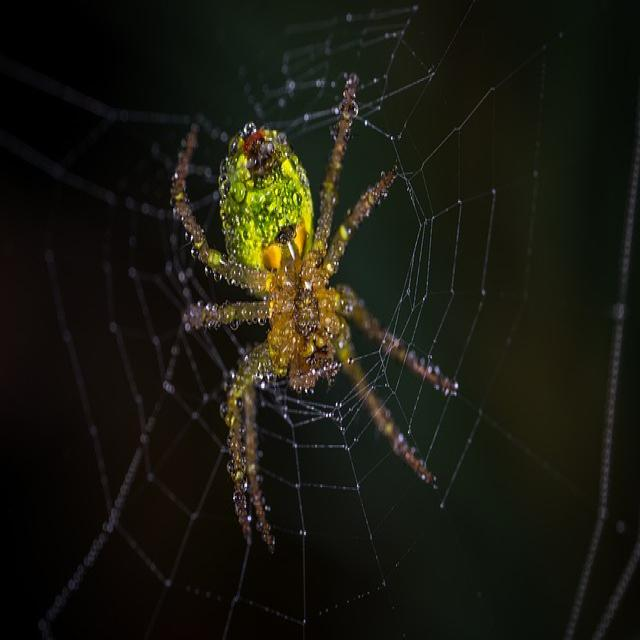spyder: (172, 75, 456, 546)
